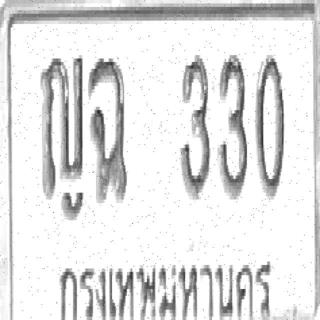A09: (87, 53, 128, 205)
A13: (39, 52, 84, 200)
N00: (254, 52, 285, 200)
N03: (179, 52, 210, 200), (217, 52, 247, 200)
P04: (56, 253, 276, 320)
